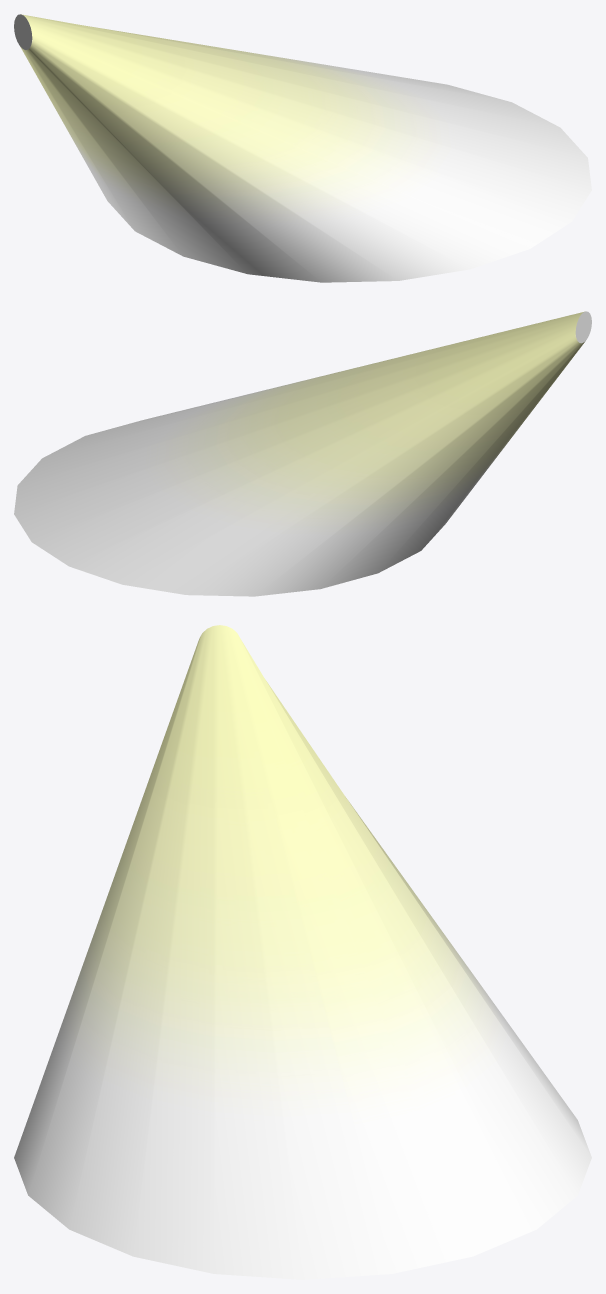
Rendered from Flashlight.fbx.
3 views of the same model, one above another, from view 1: azimuth 30°, elevation 25°; view 2: azimuth 150°, elevation 25°; view 3: azimuth 270°, elevation 25° (orthographic). The views are drawn at different scales.
Visible parts, largest first — view 1: pCylinder1; view 2: pCylinder1; view 3: pCylinder1.
Part boxes in pixels (x1=…): pCylinder1: x1=14, y1=14, x2=591, y2=282; pCylinder1: x1=14, y1=311, x2=591, y2=596; pCylinder1: x1=14, y1=625, x2=591, y2=1279.
Bounding box in the file's own units: 5.07 × 2.35 × 3.77.
